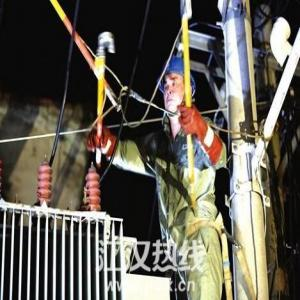blue: (160, 57, 195, 119)
